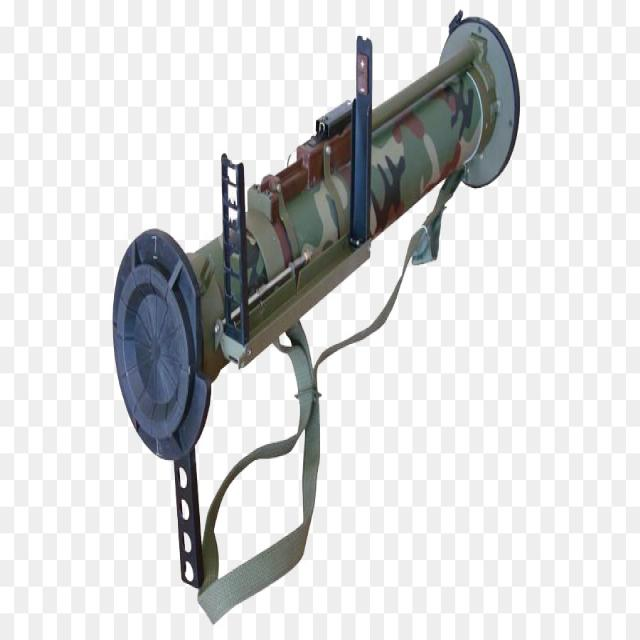bazooka: (79, 15, 530, 525)
